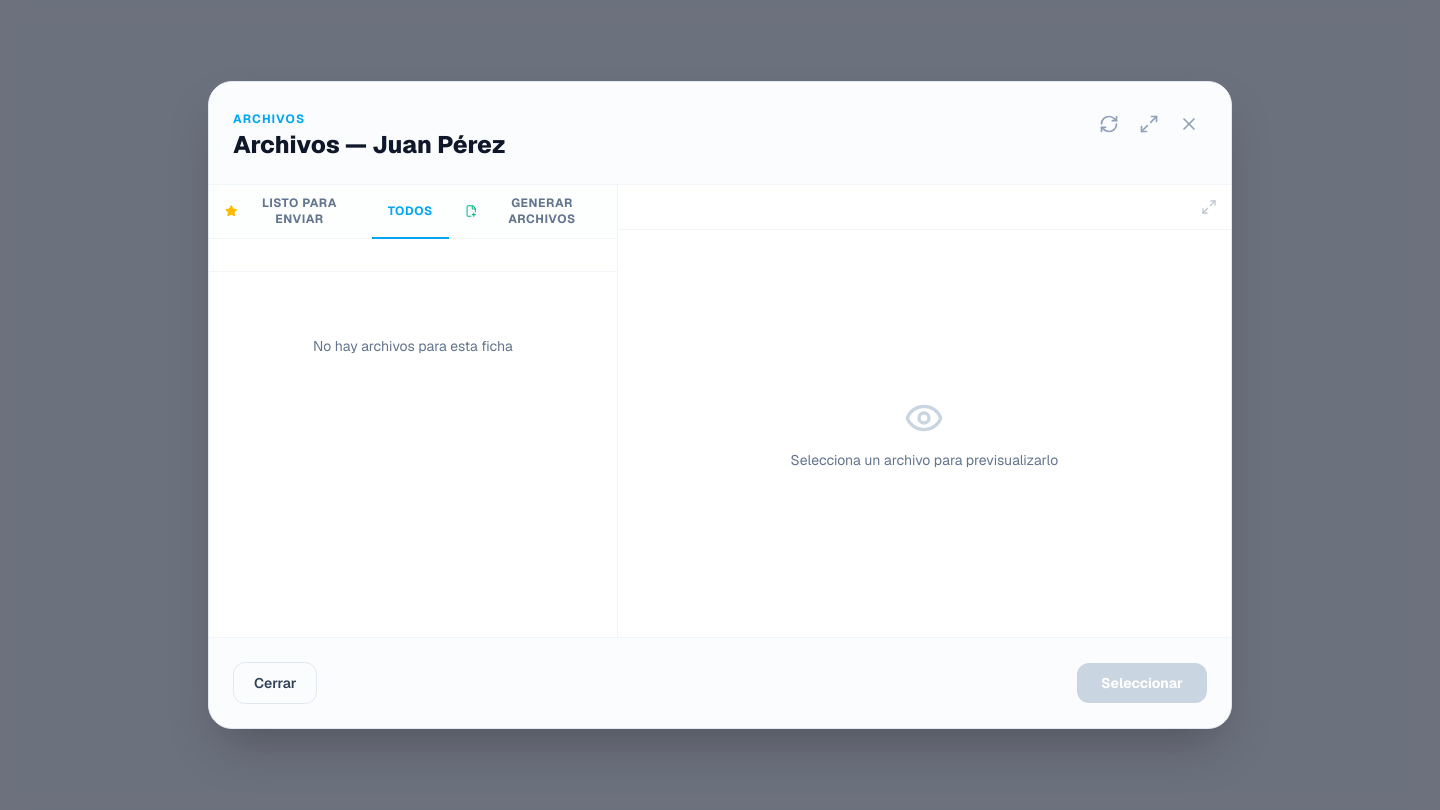
Test: FilesModal - onPickSingle mode › enables "Seleccionar" once a file is selected
Click the tab "Listo para enviar" at point(290, 212), box top-left (209, 185), bottom-right (372, 239)
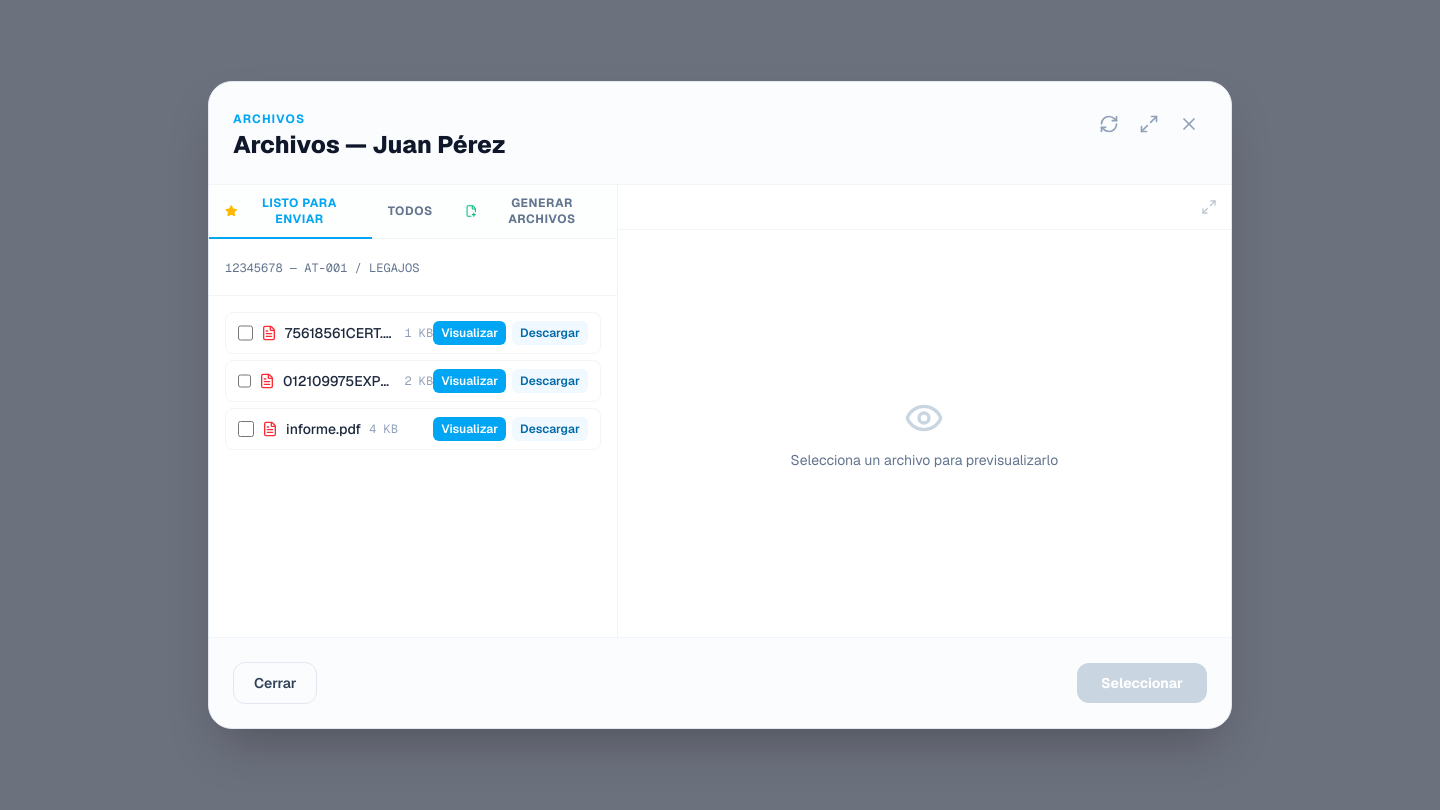
Expected: the button with test id "files-modal-pick-select" is disabled, top-left (1077, 663), bottom-right (1207, 703)
Click the checkbox labelled "75618561CERT.pdf 1 KB" at point(245, 333), box top-left (238, 325), bottom-right (253, 341)
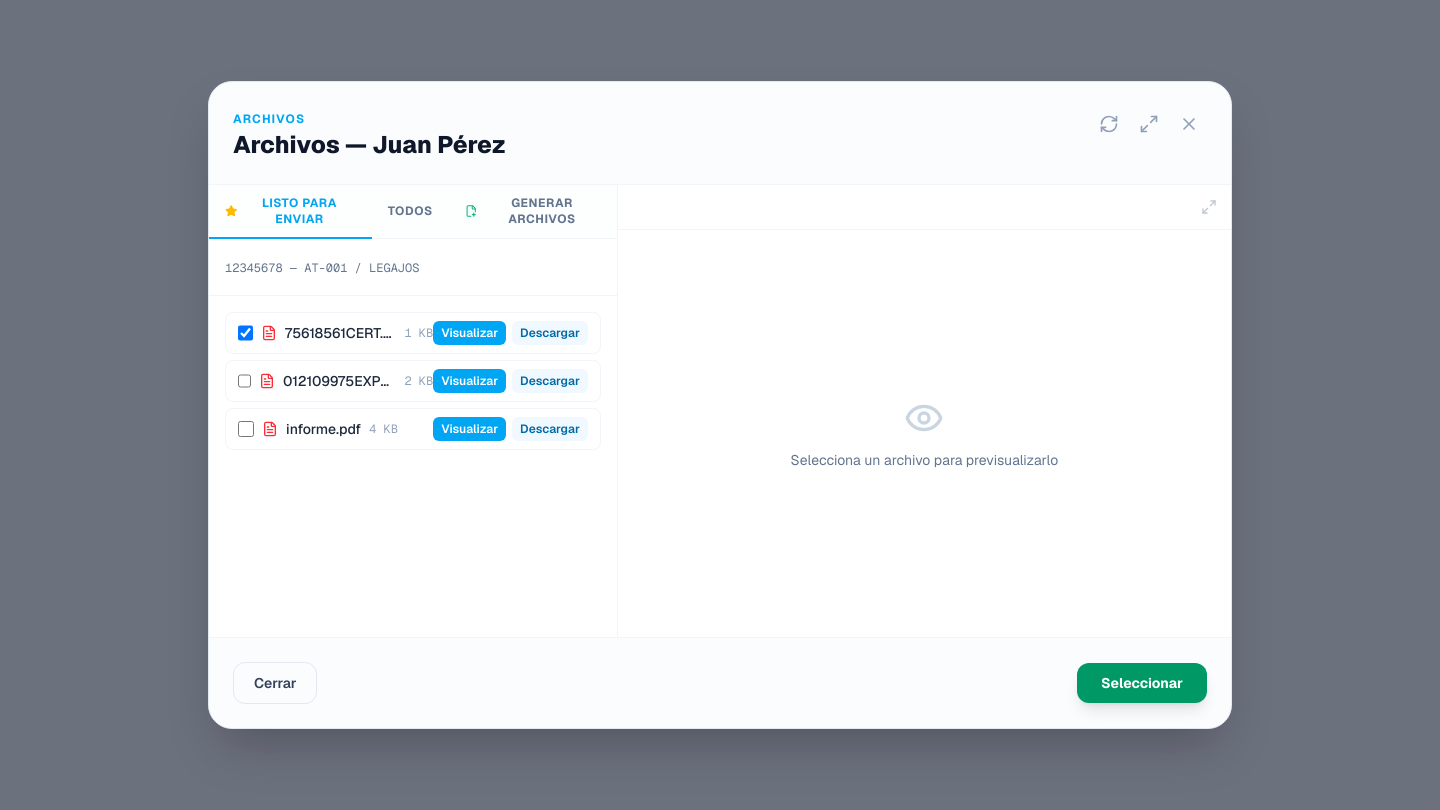
Result: the button with test id "files-modal-pick-select" is enabled at top-left (1077, 663), bottom-right (1207, 703)
